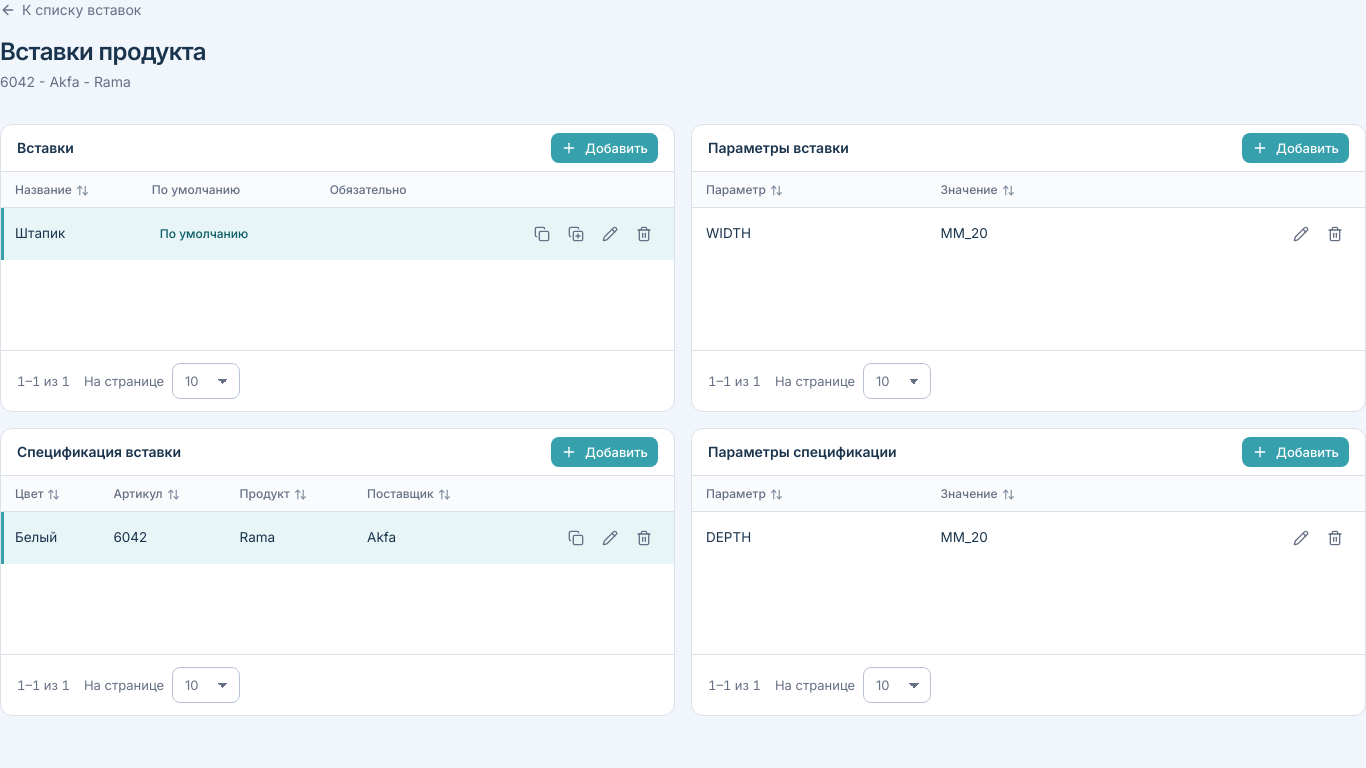
Scenario: A product’s inserts page › deleting the chosen insert drops it and its specification from the URL
Click the button named "Удалить" in the row of "Штапик" at (644, 234), box [628,218,660,250]
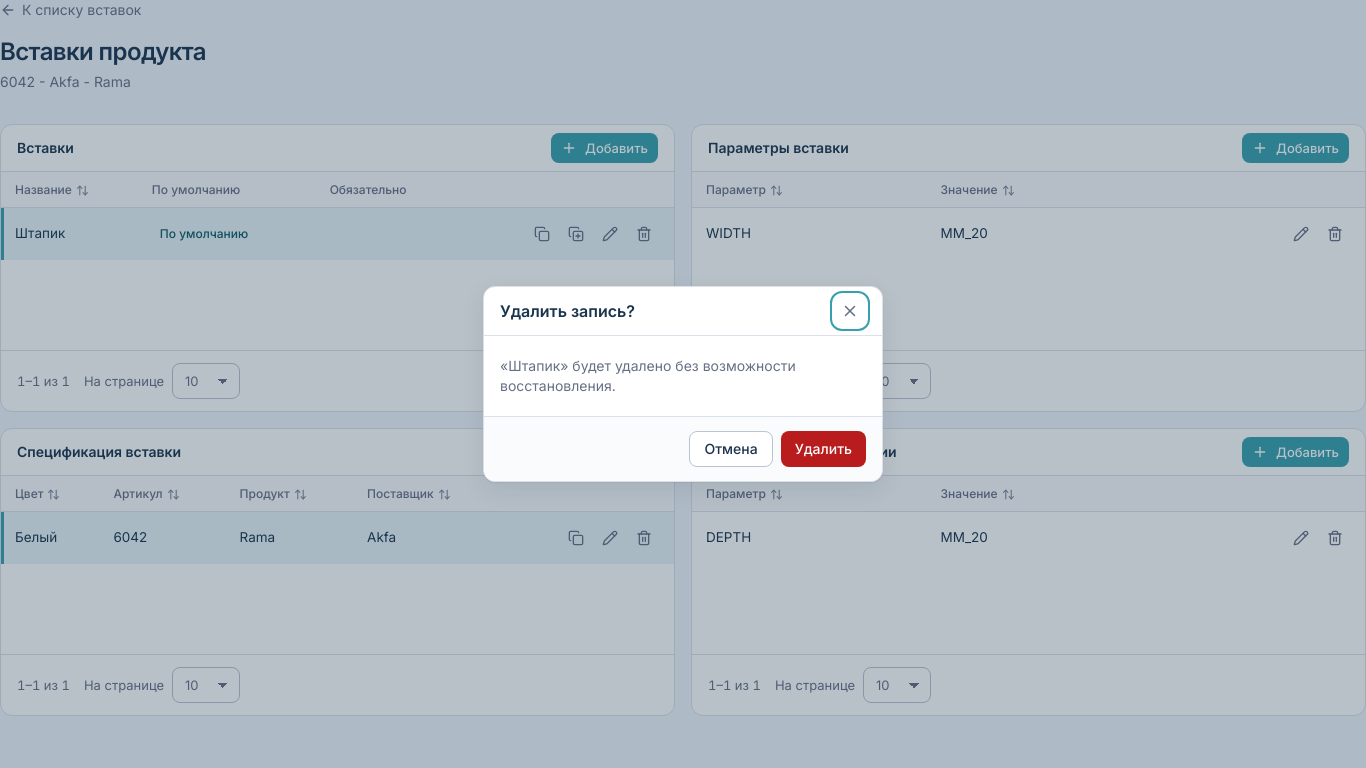
Click the button "Удалить" at (823, 449), box [781,431,866,467]
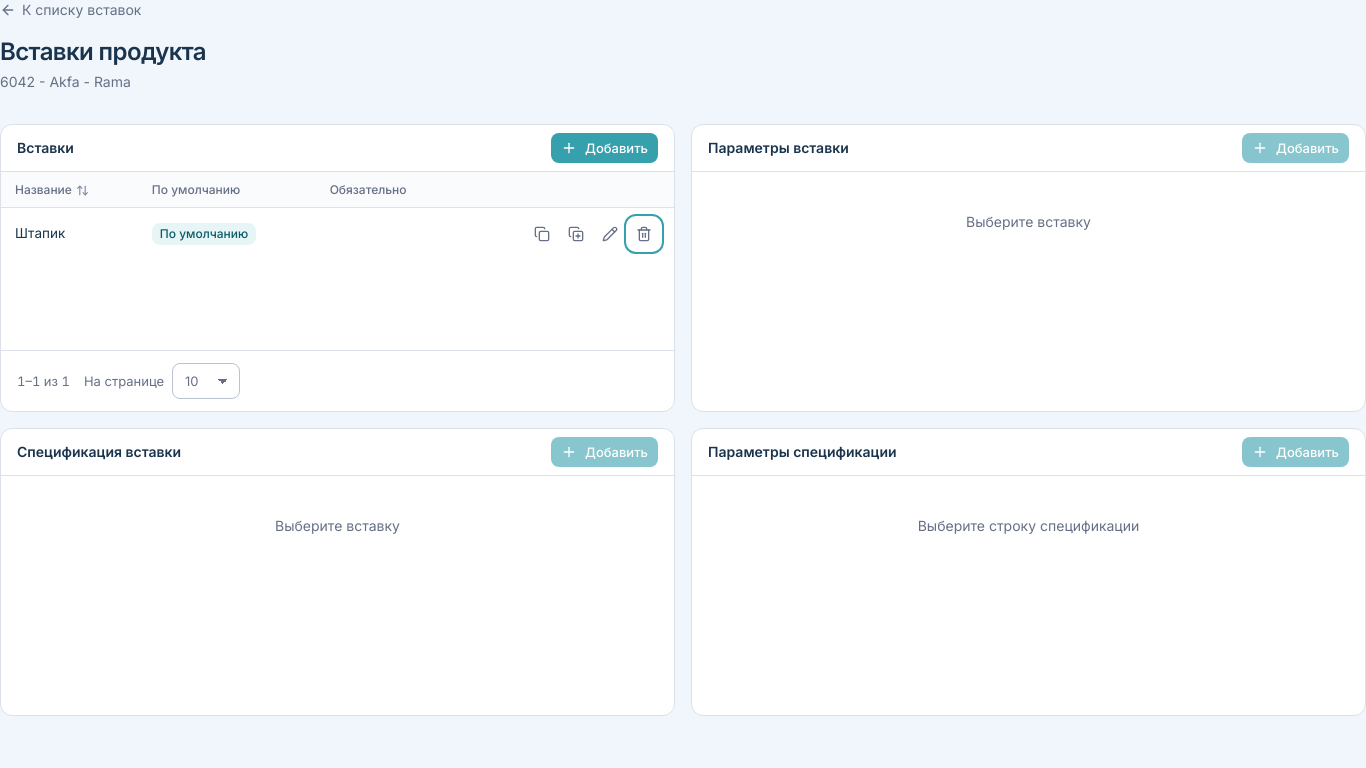
Expected: the text "Выберите вставку" is shown 2 times, [966,213,1091,230]; [275,517,400,534]
